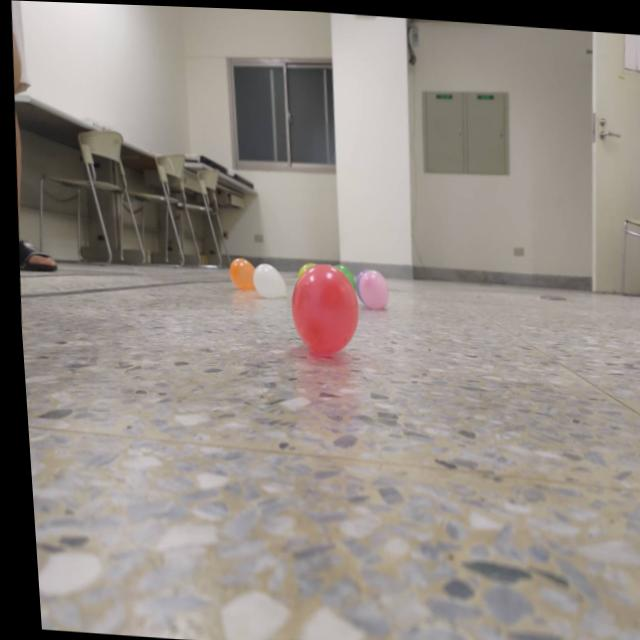other: (247, 261, 284, 295), (353, 267, 384, 307), (225, 254, 251, 288)
red: (282, 260, 358, 354)
